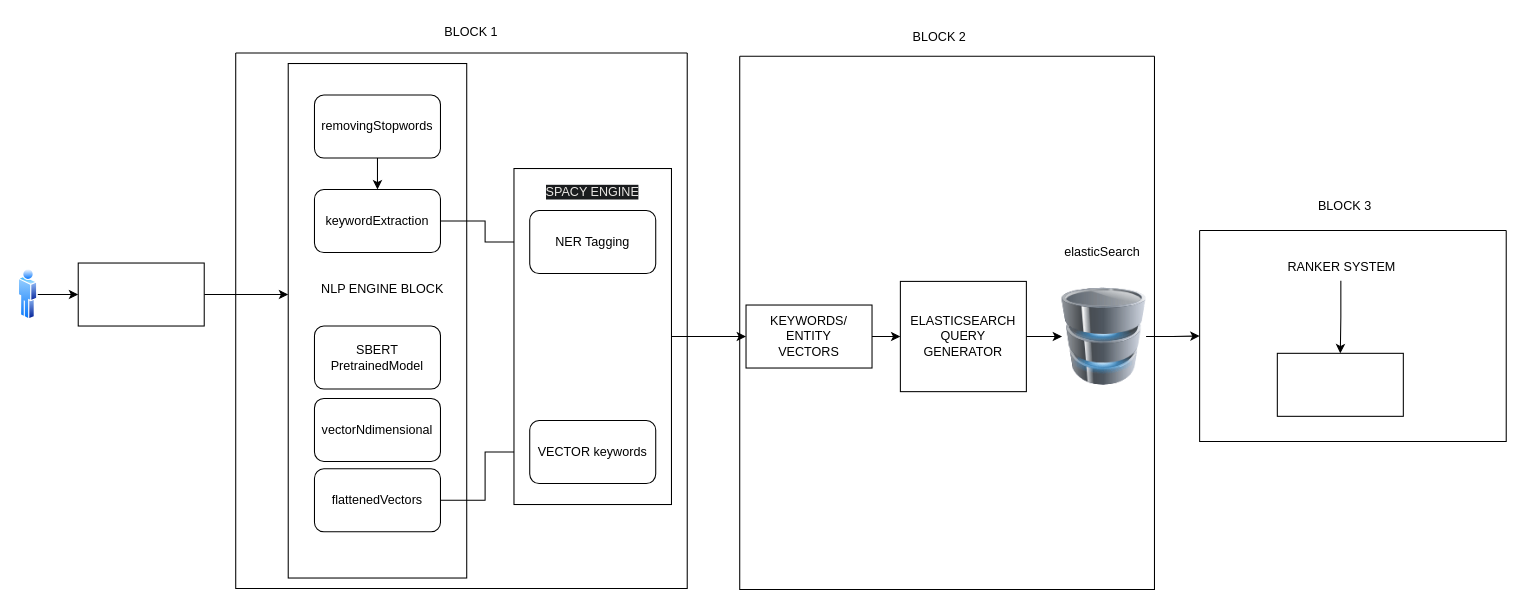
Some shapes in this 1525 by 608 pixel diagram are drawn without their labels. The shapes that lost their labels are listed below. From the top down, each one's centre as x and y in pixels, then its label:
the point at 140,294: userInput/ search queries
the point at 1339,384: TF/IDF Count Vectorizer
